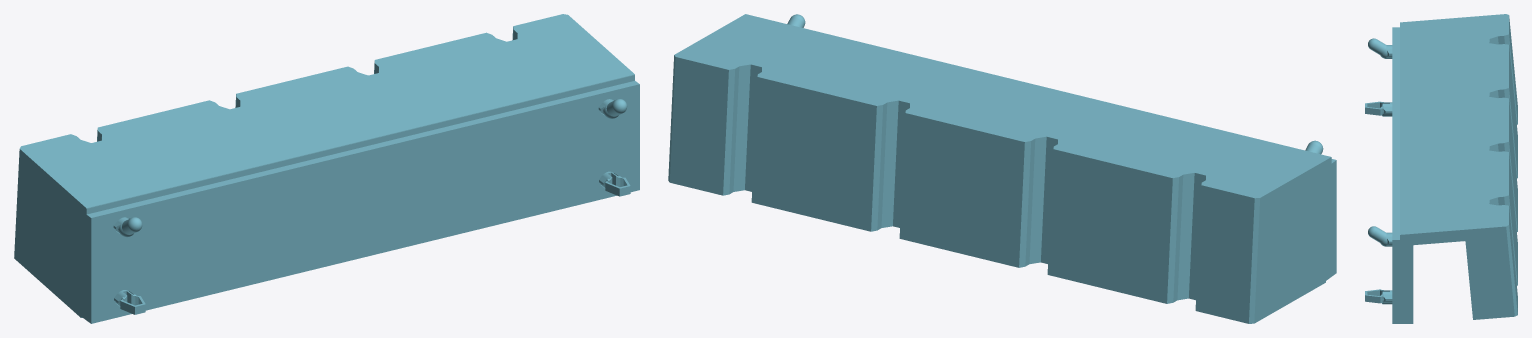
Rendered from part-mh04__current-mounts-v1__fit-pf02c9-hoop5__installed.glb.
The picture shows the model from 3 angles, left to right: view 1: azimuth 30°, elevation 25°; view 2: azimuth 150°, elevation 25°; view 3: azimuth 270°, elevation 25°; orthographic projection. The views are drawn at different scales.
Parts seen in each view (by area): view 1: installed.stl; view 2: installed.stl; view 3: installed.stl.
Part boxes in pixels (x1=…): installed.stl: x1=14, y1=14, x2=639, y2=323; installed.stl: x1=668, y1=14, x2=1336, y2=323; installed.stl: x1=1365, y1=14, x2=1517, y2=323.
Bounding box in the file's own units: 0.2012 × 0.0437 × 0.0611.
